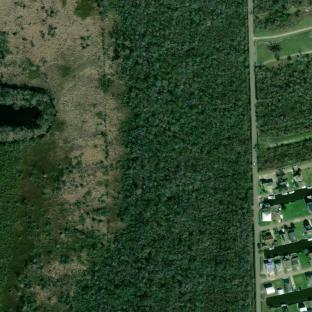Floresta: (73, 0, 253, 312), (255, 58, 312, 137), (0, 85, 54, 141), (257, 138, 312, 171), (254, 0, 312, 30)
